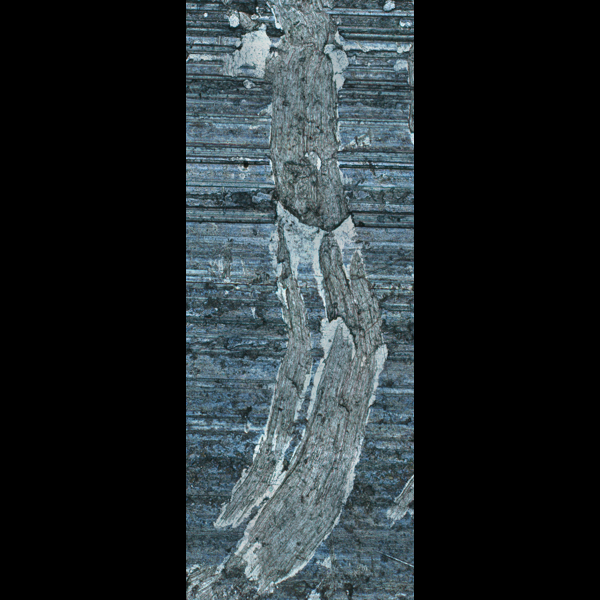d: (257, 260, 393, 503), (262, 110, 378, 300), (193, 455, 340, 595), (207, 0, 365, 109), (377, 0, 414, 75)
